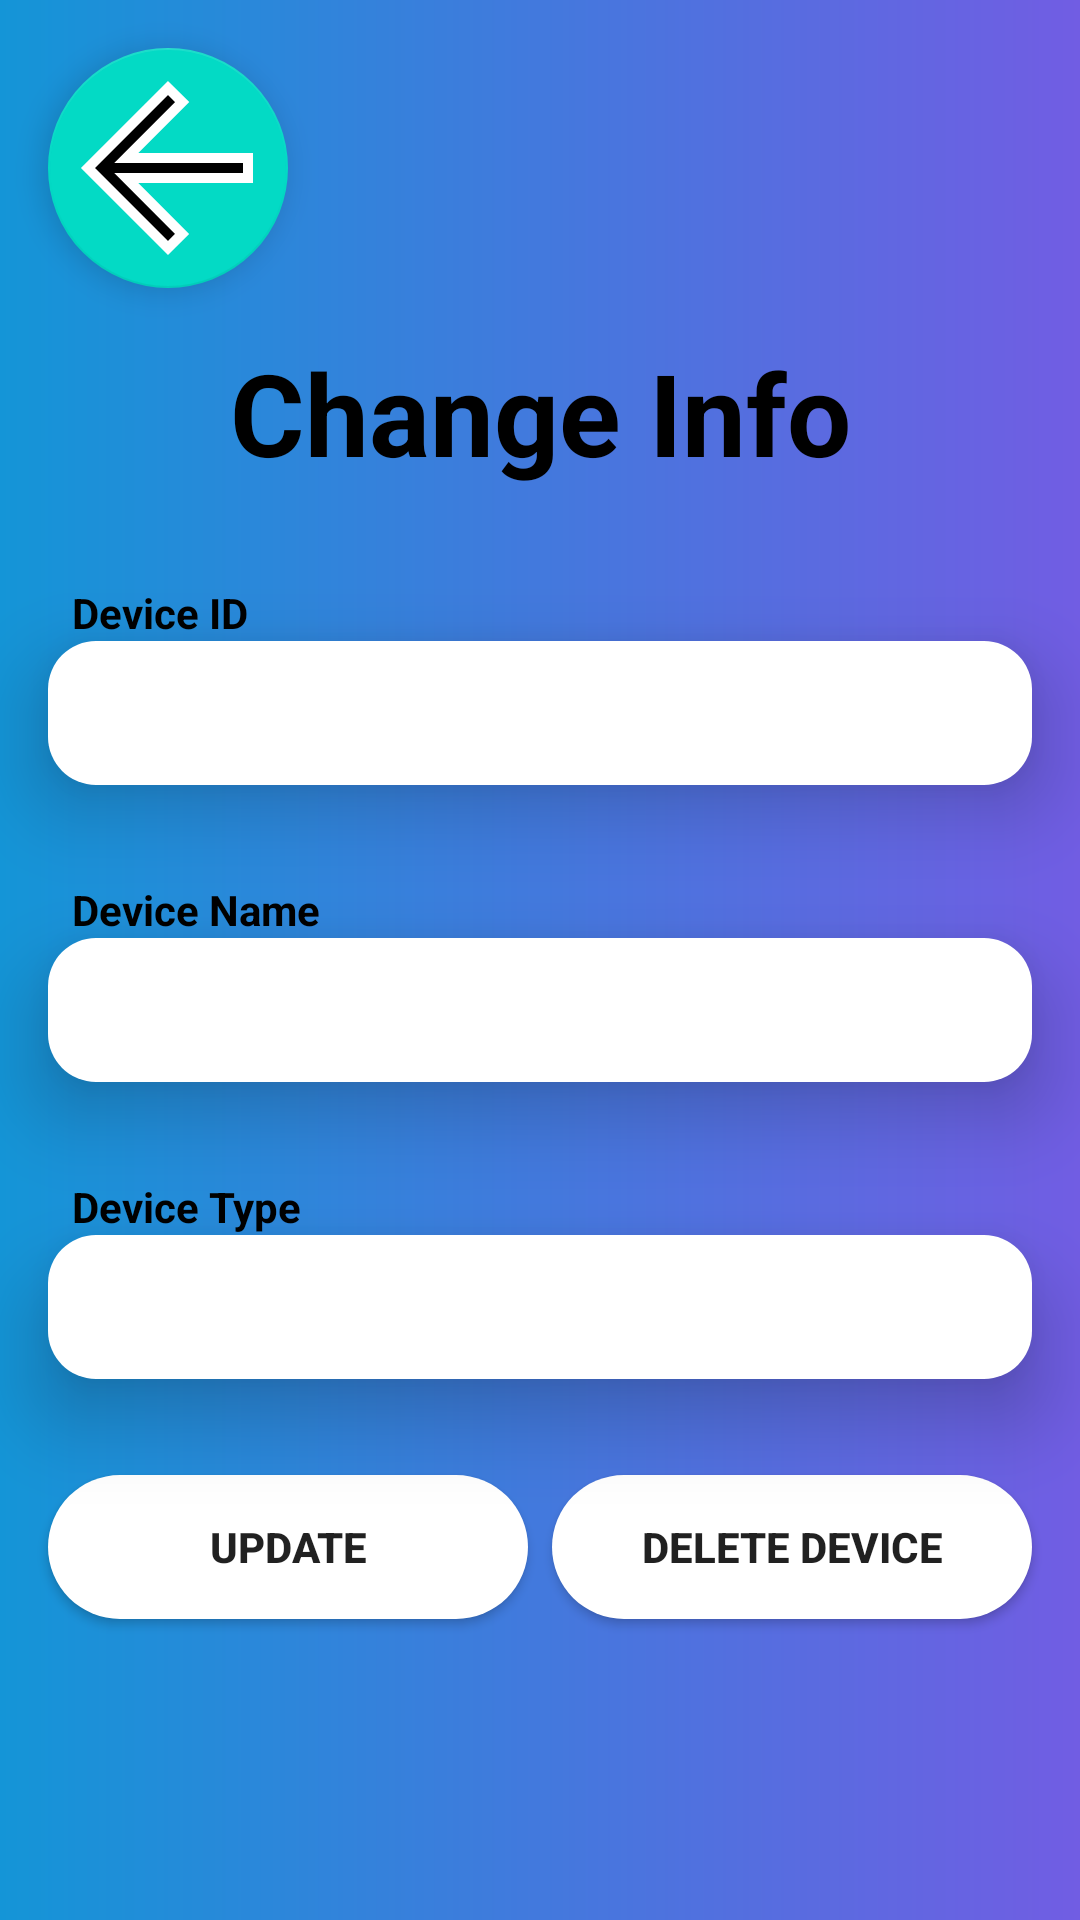

Named icons in this screenshot (1080px x 1920px) and their centers, (x=x, y=y):
arrow back: (x=168, y=168)
